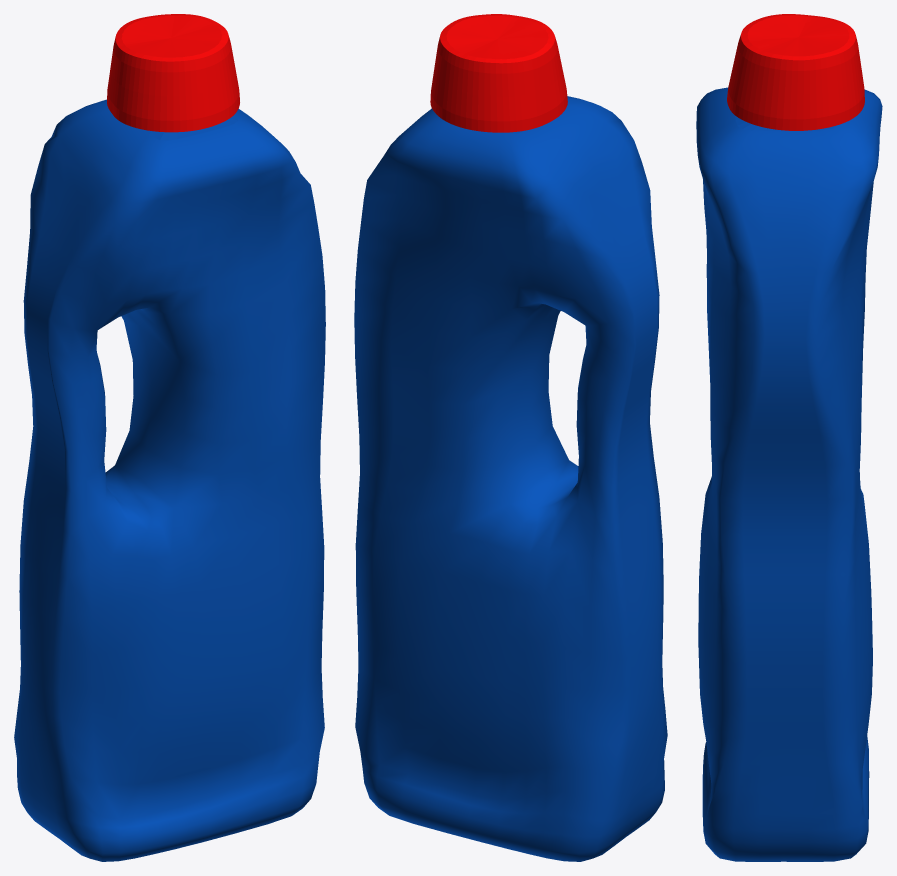
The model's file is bottle.glb.
3 views of the same model, side by side, from view 1: azimuth 30°, elevation 25°; view 2: azimuth 150°, elevation 25°; view 3: azimuth 270°, elevation 25° (orthographic).
Visible parts, largest first — view 1: Bottle; view 2: Bottle; view 3: Bottle.
Boxes of the visible parts, box(x1,y1,x2,y2) form: Bottle: box(14, 14, 325, 861); Bottle: box(354, 14, 667, 861); Bottle: box(696, 14, 882, 861).
Bounding box in the file's own units: 0.1171 × 0.3165 × 0.0677.
